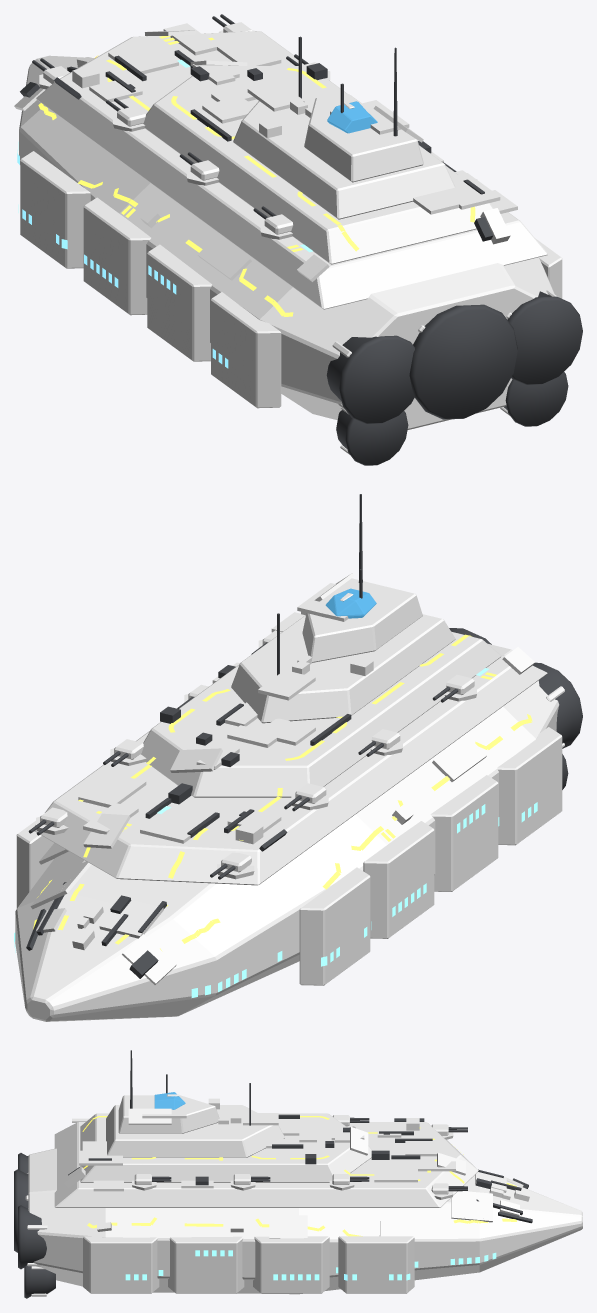
Rendered from citadel.glb.
3 views of the same model, one above another, from view 1: azimuth 30°, elevation 25°; view 2: azimuth 150°, elevation 25°; view 3: azimuth 270°, elevation 25° (orthographic). The views are drawn at different scales.
Visible parts, largest first — view 1: Корпус, Ярус, Ярус.001, Накладные_плиты, Ярус.002, Кожух_дюзы.004, Бронеплита.007, Кожух_дюзы.002, Бронеплита.004, Бронеплита.005, Бронеплита.006, Ярус.003 (+8 smaller); view 2: Корпус, Ярус, Накладные_плиты, Ярус.001, Ярус.002, Бронеплита.004, Бронеплита.005, Бронеплита.006, Бронеплита.007, Ярус.003, Механика, Разметка (+4 smaller); view 3: Корпус, Ярус, Накладные_плиты, Ярус.001, Ярус.002, Бронеплита, Бронеплита.003, Бронеплита.001, Бронеплита.002, Механика, Ярус.003, Кожух_дюзы (+5 smaller).
Boxes of the visible parts, bbox=[...] form: Корпус: bbox=[19, 55, 554, 429]; Ярус: bbox=[36, 31, 547, 309]; Ярус.001: bbox=[143, 66, 493, 264]; Накладные_плиты: bbox=[14, 23, 517, 281]; Ярус.002: bbox=[233, 90, 455, 219]; Кожух_дюзы.004: bbox=[409, 304, 517, 419]; Бронеплита.007: bbox=[211, 292, 281, 408]; Кожух_дюзы.002: bbox=[326, 335, 414, 423]; Бронеплита.004: bbox=[20, 151, 90, 268]; Бронеплита.005: bbox=[83, 197, 150, 315]; Бронеплита.006: bbox=[147, 244, 211, 361]; Ярус.003: bbox=[304, 98, 423, 182]; Корпус: bbox=[15, 644, 559, 1021]; Ярус: bbox=[34, 655, 547, 885]; Накладные_плиты: bbox=[30, 573, 534, 984]; Ярус.001: bbox=[141, 631, 501, 797]; Ярус.002: bbox=[231, 614, 455, 723]; Бронеплита.004: bbox=[299, 867, 370, 985]; Бронеплита.005: bbox=[363, 821, 434, 938]; Бронеплита.006: bbox=[430, 775, 498, 891]; Бронеплита.007: bbox=[497, 727, 562, 845]; Ярус.003: bbox=[302, 578, 422, 662]; Механика: bbox=[26, 569, 362, 978]; Разметка: bbox=[33, 634, 532, 951]; Корпус: bbox=[28, 1148, 582, 1294]; Ярус: bbox=[54, 1122, 478, 1207]; Накладные_плиты: bbox=[64, 1098, 529, 1238]; Ярус.001: bbox=[80, 1113, 372, 1182]; Ярус.002: bbox=[106, 1105, 284, 1157]; Бронеплита: bbox=[338, 1236, 414, 1293]; Бронеплита.003: bbox=[83, 1236, 159, 1293]; Бронеплита.001: bbox=[253, 1236, 329, 1293]; Бронеплита.002: bbox=[168, 1236, 244, 1293]; Механика: bbox=[68, 1074, 532, 1223]; Ярус.003: bbox=[118, 1095, 219, 1133]; Кожух_дюзы: bbox=[18, 1205, 46, 1269].
Size of the model in its own units: 0.935 by 0.9637 by 2.2.
